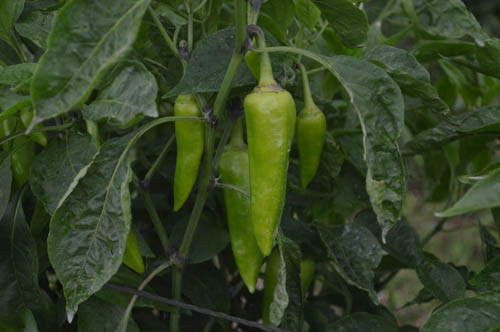ChiliPepper: (237, 75, 300, 262), (215, 146, 264, 296), (258, 248, 320, 332), (167, 95, 206, 216), (293, 104, 329, 198), (1, 114, 37, 191), (16, 98, 54, 153), (118, 235, 148, 279)
